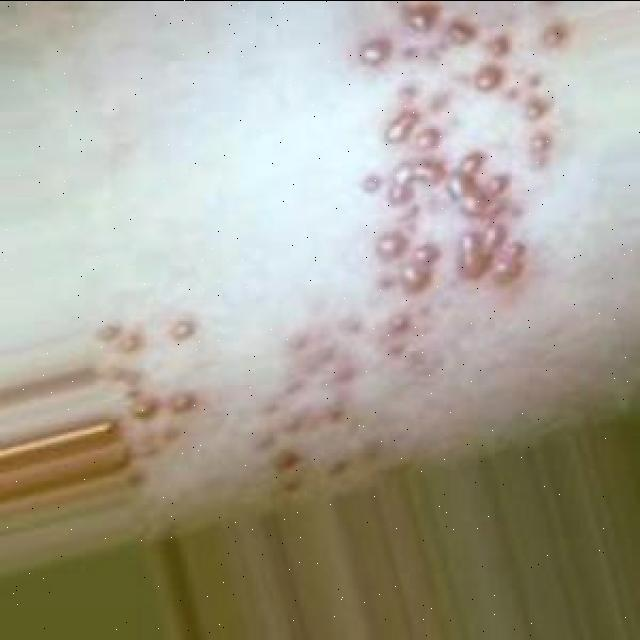Shingles: (356, 9, 565, 294), (265, 300, 418, 490), (95, 317, 198, 480)
